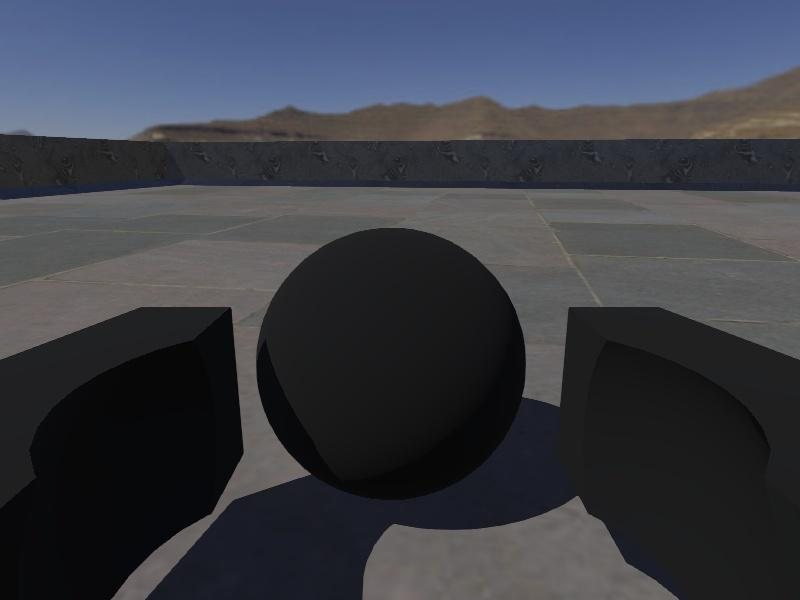black ball: (256, 227, 527, 502)
